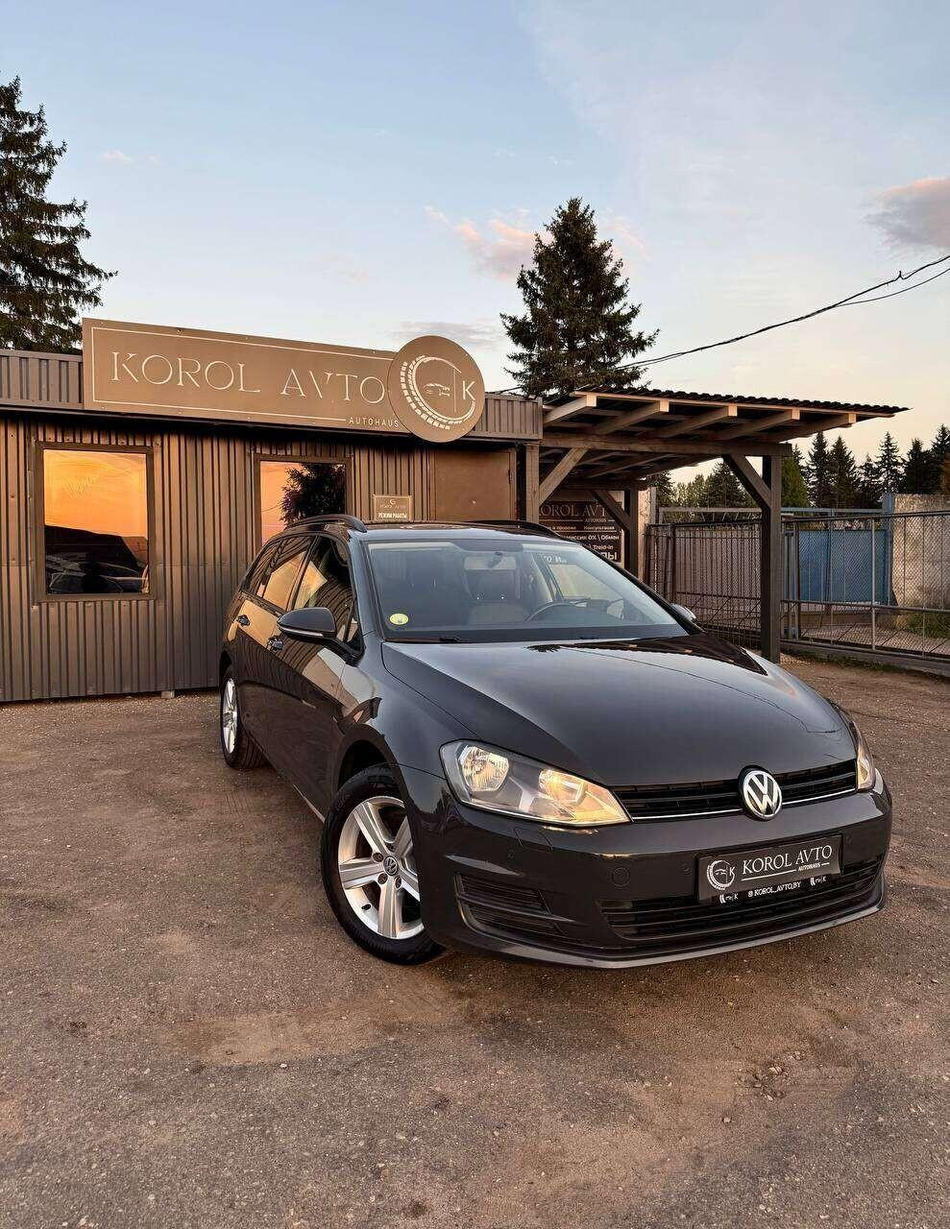Golf_2012-2017: (214, 514, 896, 991)
